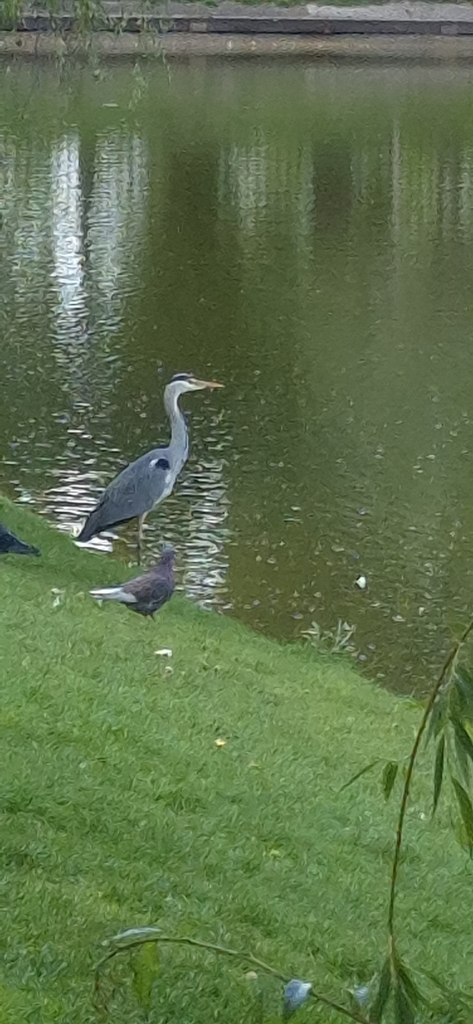heron: (75, 368, 226, 568)
